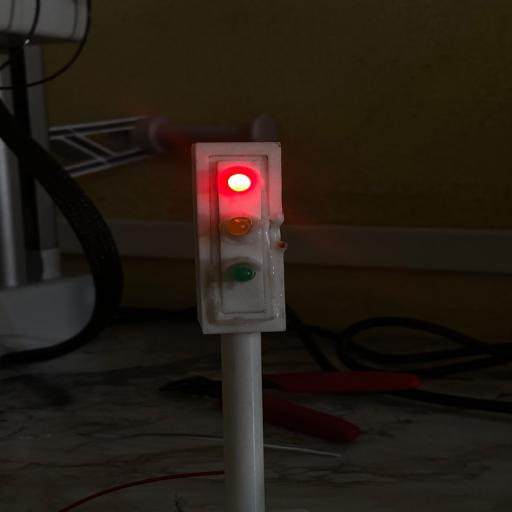Red Light: (228, 174, 251, 191)
